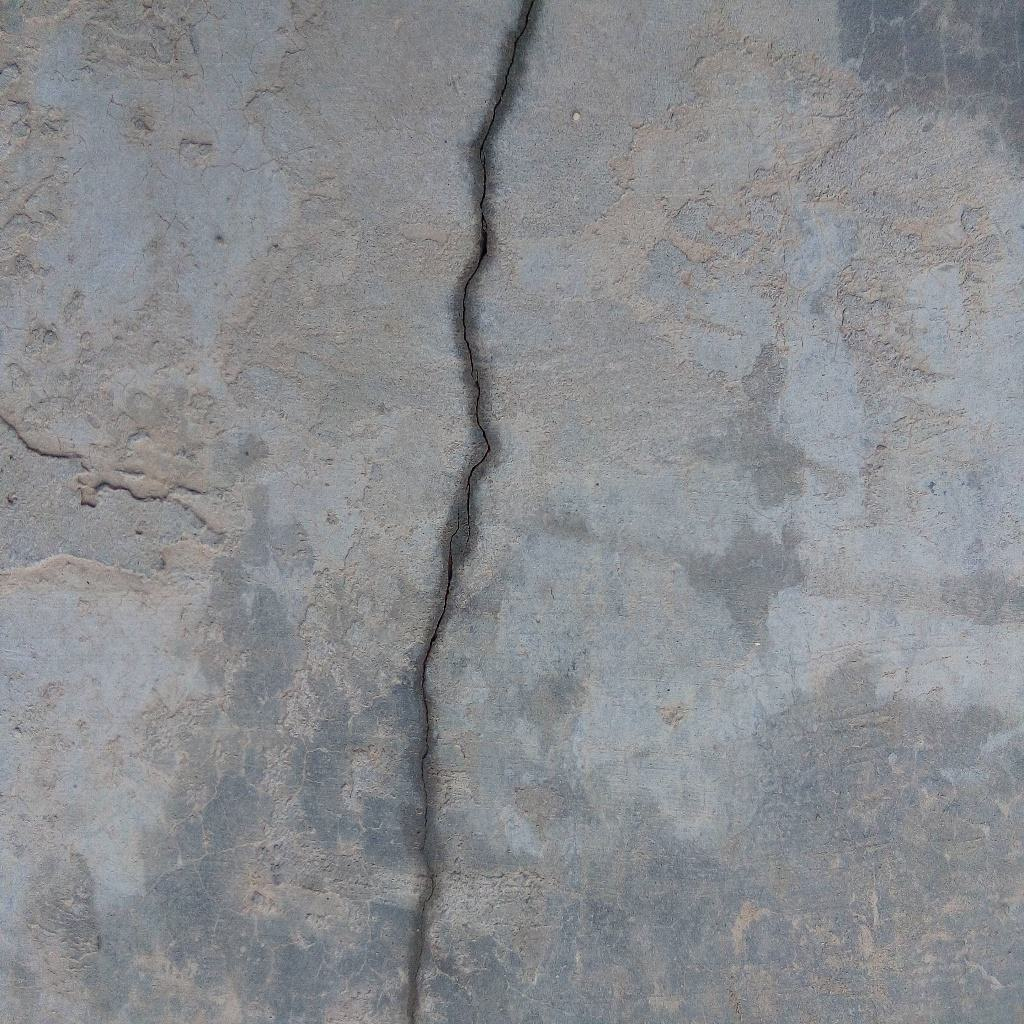Crack: (409, 1, 533, 1024)
